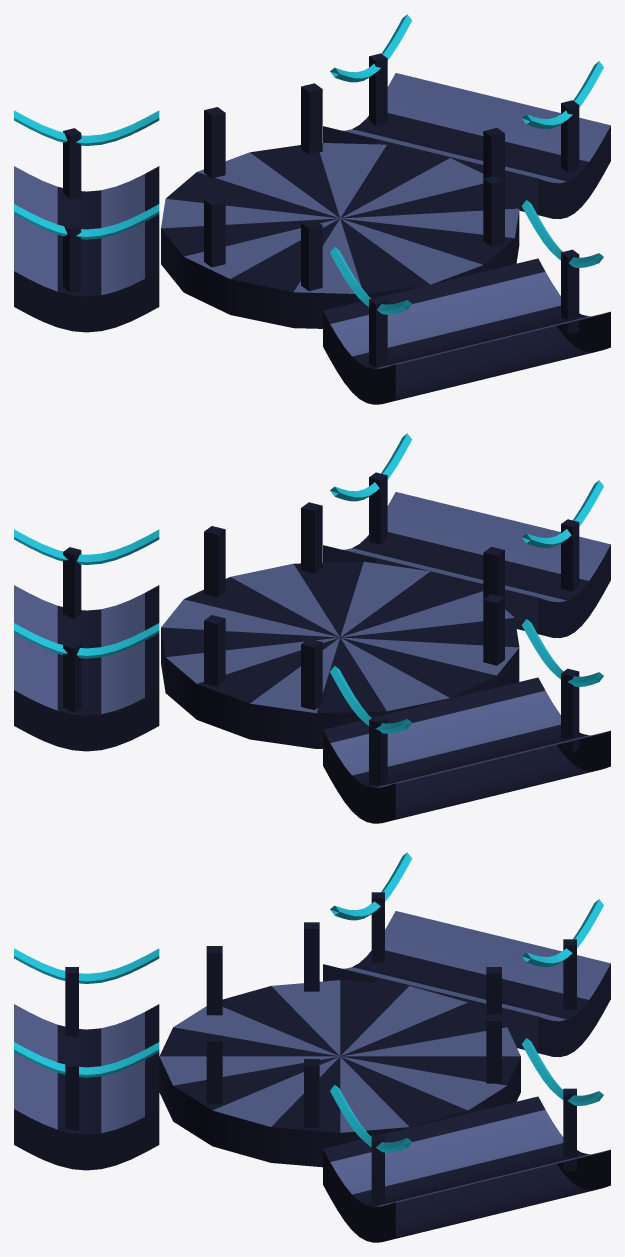
Rendered from MODULE_ALIEN_BRIDGE_PLATFORM_1.fbx.
The picture shows the model from 3 angles, top to bottom: view 1: azimuth 30°, elevation 25°; view 2: azimuth 150°, elevation 25°; view 3: azimuth 270°, elevation 25°; orthographic projection.
Parts seen in each view (by area): view 1: MODULE_ALIEN_BRIDGE_PLATFORM_1__export, MODULE_ALIEN_BRIDGE_PLATFORM_1_DECOR__export; view 2: MODULE_ALIEN_BRIDGE_PLATFORM_1__export, MODULE_ALIEN_BRIDGE_PLATFORM_1_DECOR__export; view 3: MODULE_ALIEN_BRIDGE_PLATFORM_1__export, MODULE_ALIEN_BRIDGE_PLATFORM_1_DECOR__export.
Part boxes in pixels (left/top/right/bottom): MODULE_ALIEN_BRIDGE_PLATFORM_1__export: left=14, top=73, right=610, bottom=404; MODULE_ALIEN_BRIDGE_PLATFORM_1_DECOR__export: left=14, top=14, right=603, bottom=366; MODULE_ALIEN_BRIDGE_PLATFORM_1__export: left=14, top=492, right=610, bottom=823; MODULE_ALIEN_BRIDGE_PLATFORM_1_DECOR__export: left=14, top=433, right=603, bottom=784; MODULE_ALIEN_BRIDGE_PLATFORM_1__export: left=14, top=911, right=610, bottom=1242; MODULE_ALIEN_BRIDGE_PLATFORM_1_DECOR__export: left=14, top=852, right=603, bottom=1204.
Bounding box in the file's own units: 61 × 12.1 × 52.83.
